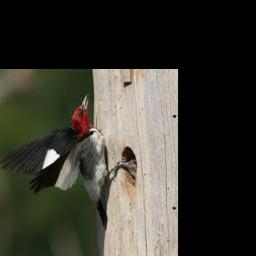Woodpecker: (1, 94, 136, 229)
